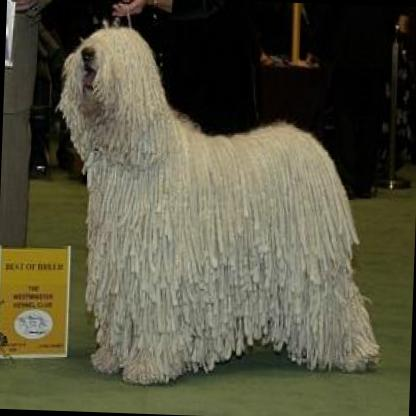komondor: (42, 26, 394, 394)
